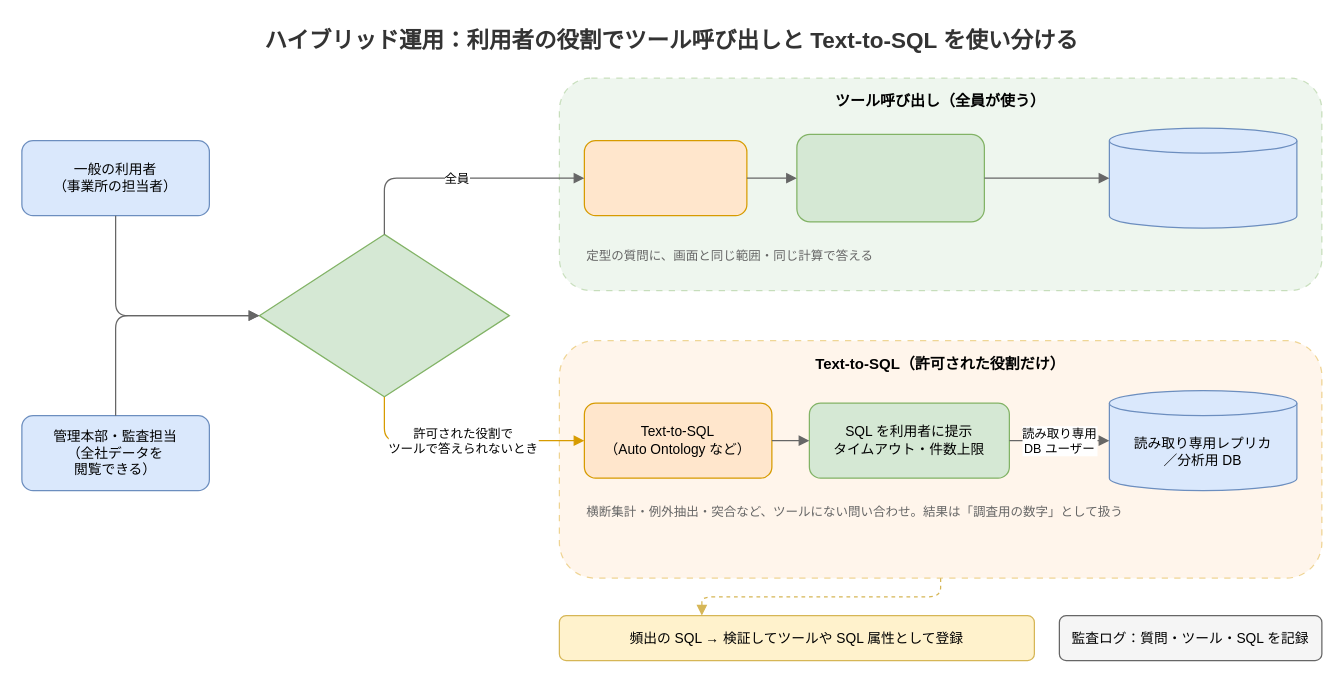
Image size: 1344x683. Some labels were removed from this diagram. Here are the shapes that lost their labels. From the top down, the centre of each, then its label:
At [665,177]: "LLM ツールと引数を選ぶ".
At [890,177]: "照会ツール 利用者の権限で 既存の業務ロジック".
At [1202,177]: "業務 DB（正本）".
At [383,315]: "振り分け（アプリ） ログイン中の利用者の 役割で決める （LLM には決めさせない）".
